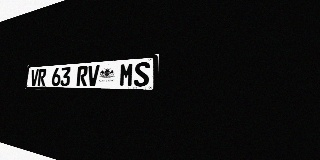plate: (25, 54, 159, 92)
